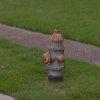Hydrant: (34, 20, 76, 93)
